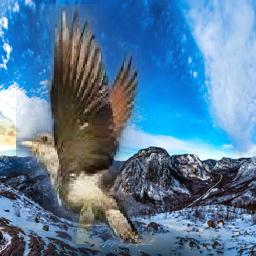Cuckoo: (17, 4, 218, 244)
